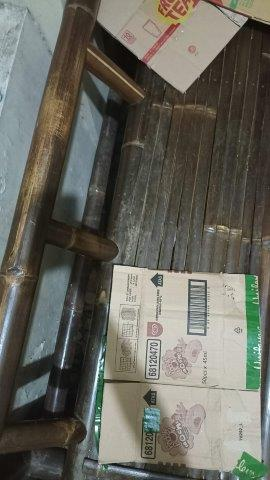kardus: (99, 265, 261, 472), (97, 3, 270, 93)
